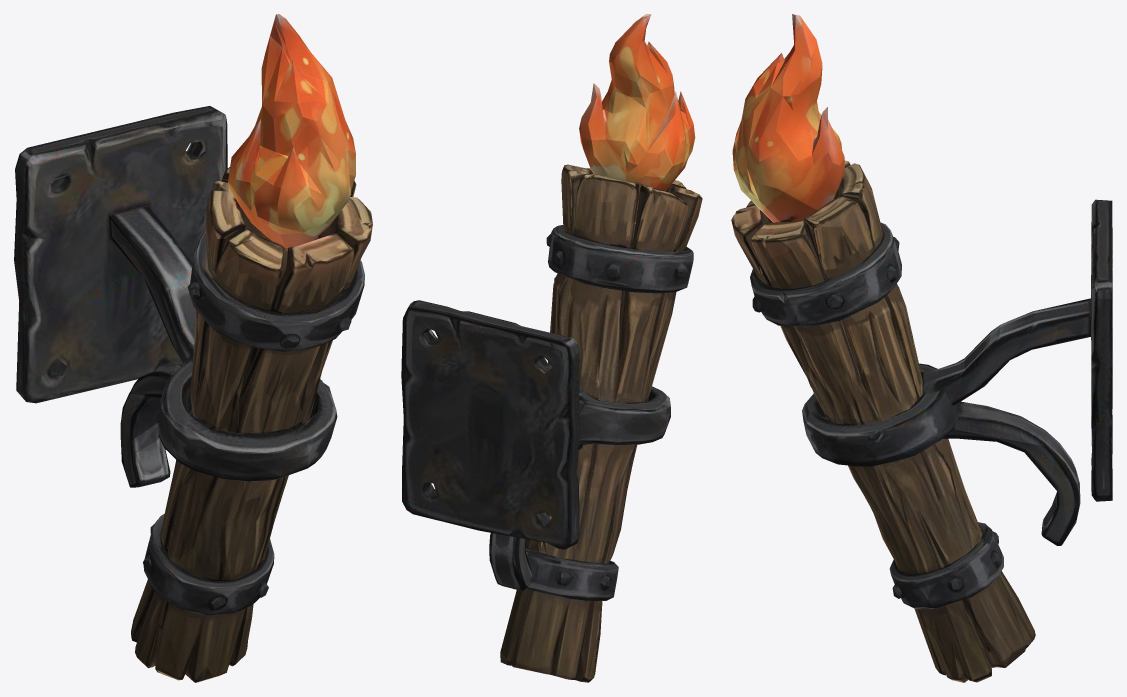
File: wall_torch_3d.glb
3 renders of one model, left to right at view 1: azimuth 30°, elevation 25°; view 2: azimuth 150°, elevation 25°; view 3: azimuth 270°, elevation 25°, orthographic. The views are drawn at different scales.
Visible parts, largest first — view 1: Mesh_0; view 2: Mesh_0; view 3: Mesh_0.
Boxes of the visible parts, bbox=[...] form: Mesh_0: bbox=[14, 14, 372, 682]; Mesh_0: bbox=[401, 14, 702, 682]; Mesh_0: bbox=[731, 14, 1112, 682].
Size of the model in its own units: 0.2399 by 0.8125 by 0.4315.
Materials: 1 (1 with a texture image).
